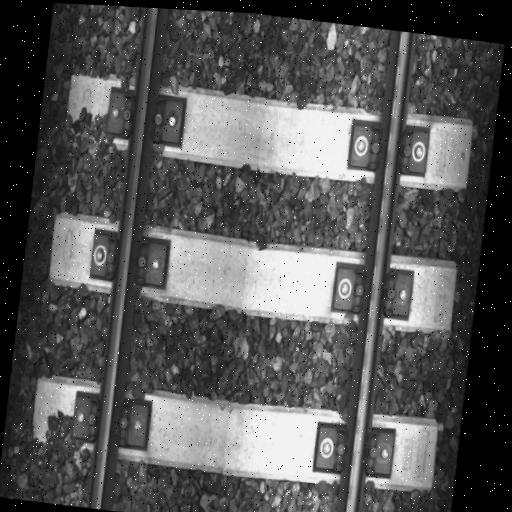clips: (347, 118, 429, 178), (68, 395, 152, 450), (104, 92, 184, 147), (330, 264, 413, 317), (314, 424, 395, 478), (87, 236, 169, 288)
sleepers: (59, 69, 474, 195), (26, 374, 440, 494), (45, 213, 458, 330)
